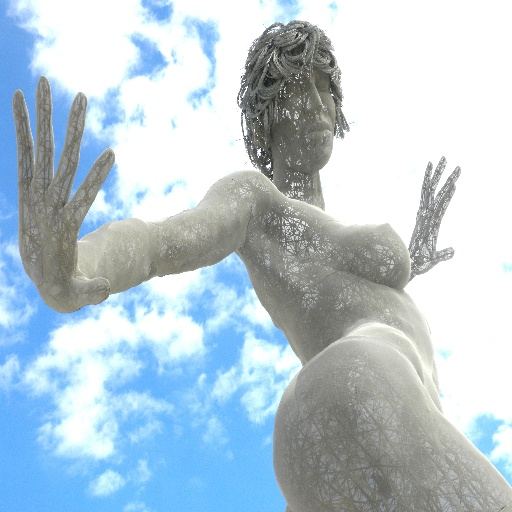hand: (17, 91, 262, 320), (407, 156, 461, 275)
